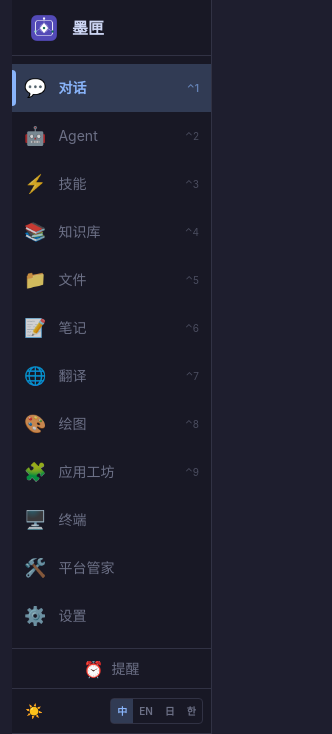
Test: 右键菜单：固定不被休眠 › 点固定 → 进 store（出现 📌）并落库
The width and height of the screenshot is (332, 734).
Right-click the button labelled "📚 知识库 ⌃4" at (112, 232), box [12,208,211,256]
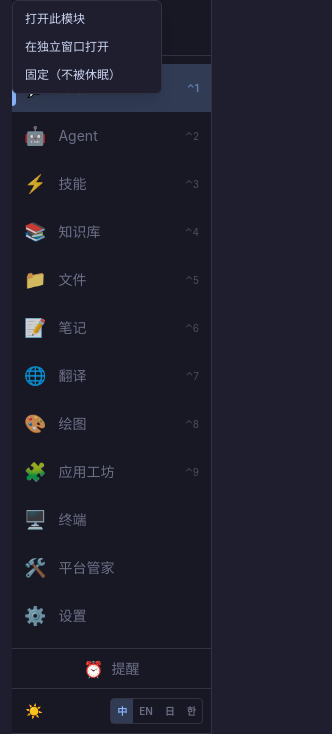
Click the button "固定（不被休眠）" at (87, 75), box [13,61,161,89]
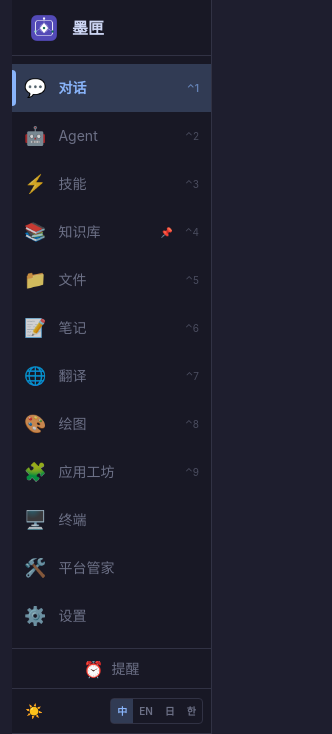
Expected: the text "📌" is shown, [160,222,173,242]
